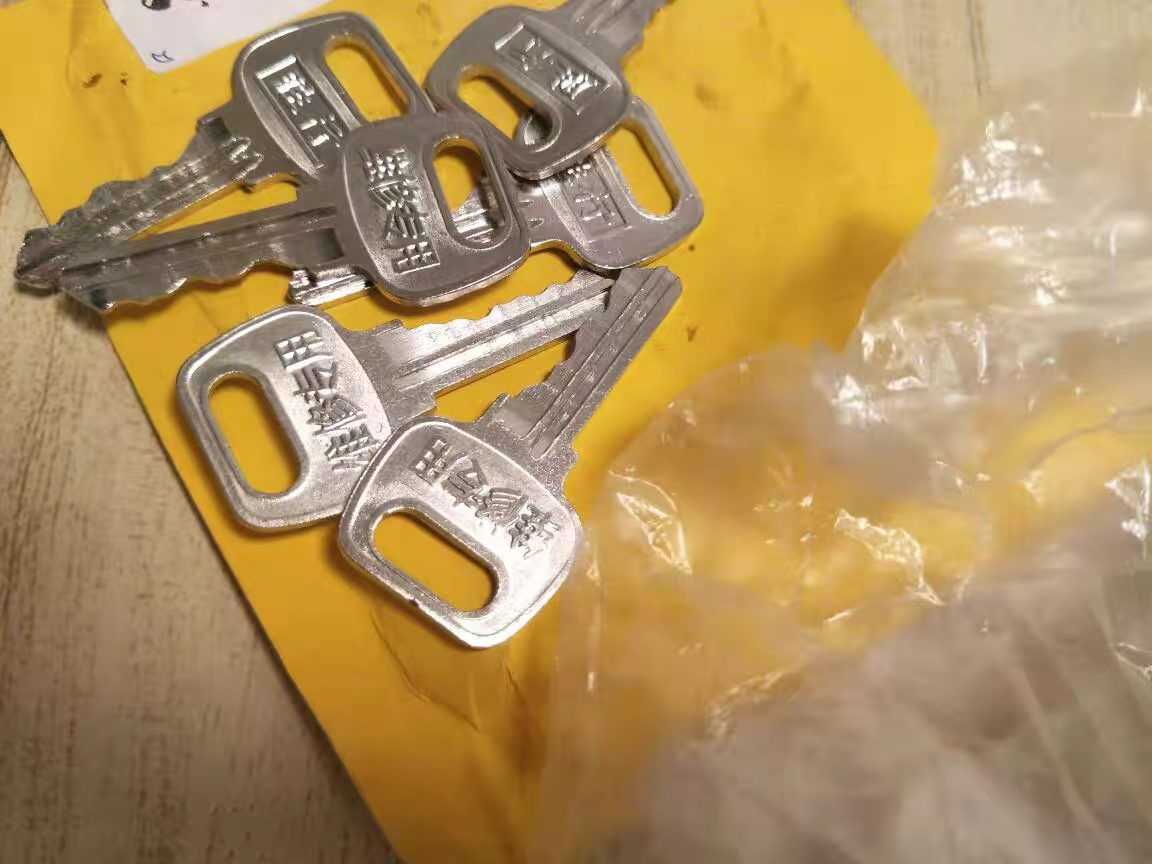key: (313, 296, 687, 669), (163, 311, 677, 531), (31, 111, 533, 335), (23, 18, 414, 286), (292, 88, 720, 317), (407, 0, 699, 158)
